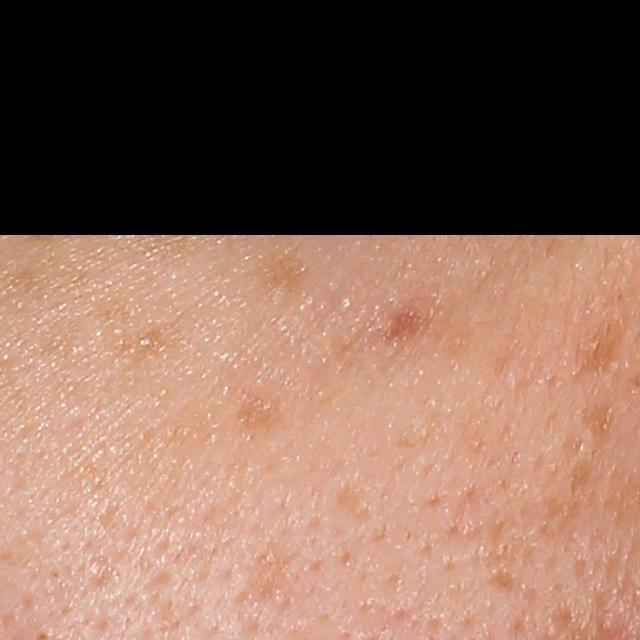atrophic_scar: (334, 483, 379, 526)
melasma: (533, 456, 595, 540), (563, 311, 630, 383), (246, 244, 316, 296), (108, 321, 186, 365), (226, 393, 287, 437), (576, 393, 622, 446)
